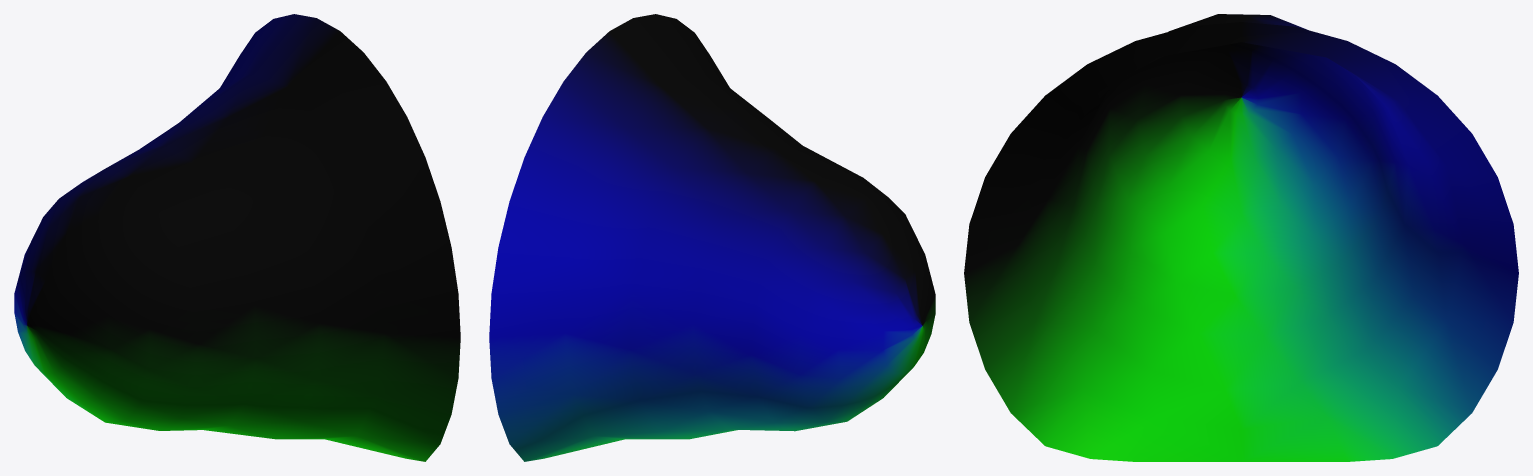
Rendered from uni_wormhole.fbx.
The picture shows the model from 3 angles, left to right: view 1: azimuth 30°, elevation 25°; view 2: azimuth 150°, elevation 25°; view 3: azimuth 270°, elevation 25°; orthographic projection. The views are drawn at different scales.
Visible parts, largest first — view 1: uni_portal; view 2: uni_portal; view 3: uni_portal.
Part boxes in pixels (x1,y1,x2,y2): uni_portal: [14, 14, 460, 461]; uni_portal: [489, 14, 935, 461]; uni_portal: [964, 14, 1518, 461].
Bounding box in the file's own units: 25600 × 19200 × 22400.
